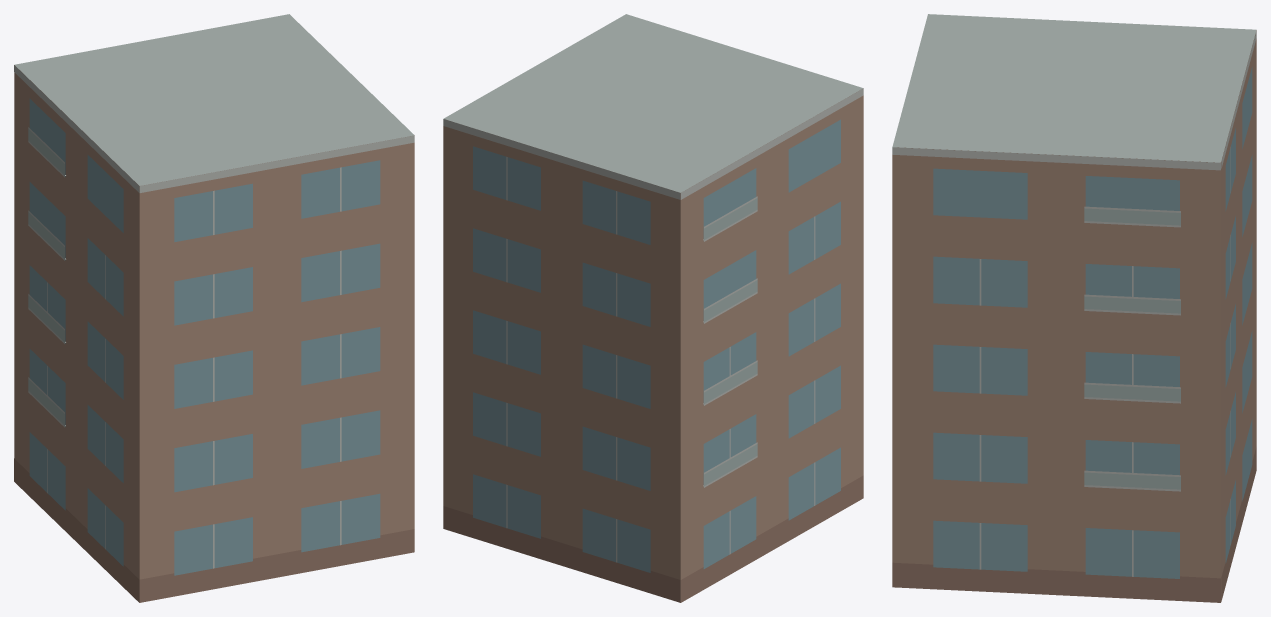
The model's file is survey-upis-32522950.glb.
3 views of the same model, side by side, from view 1: azimuth 30°, elevation 25°; view 2: azimuth 150°, elevation 25°; view 3: azimuth 270°, elevation 25° (orthographic). The views are drawn at different scales.
Parts seen in each view (by area): view 1: survey-upis-32522950.tmp; view 2: survey-upis-32522950.tmp; view 3: survey-upis-32522950.tmp.
Boxes of the visible parts, x1,y1,x2,y2 form: survey-upis-32522950.tmp: (14, 14, 414, 602); survey-upis-32522950.tmp: (443, 14, 863, 602); survey-upis-32522950.tmp: (892, 14, 1256, 602).
Size of the model in its own units: 10.16 by 14 by 10.51.
